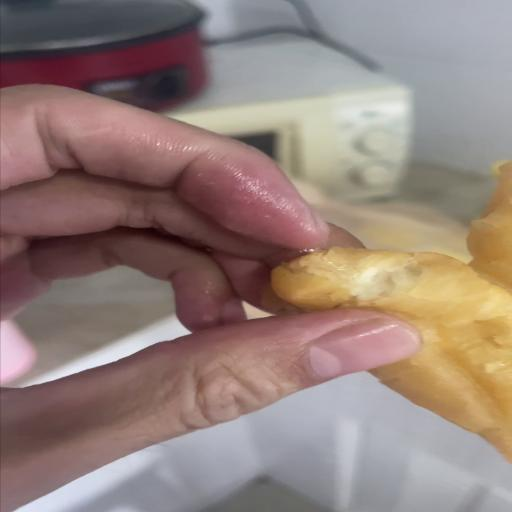street_golden_defect: (271, 164, 512, 458)
